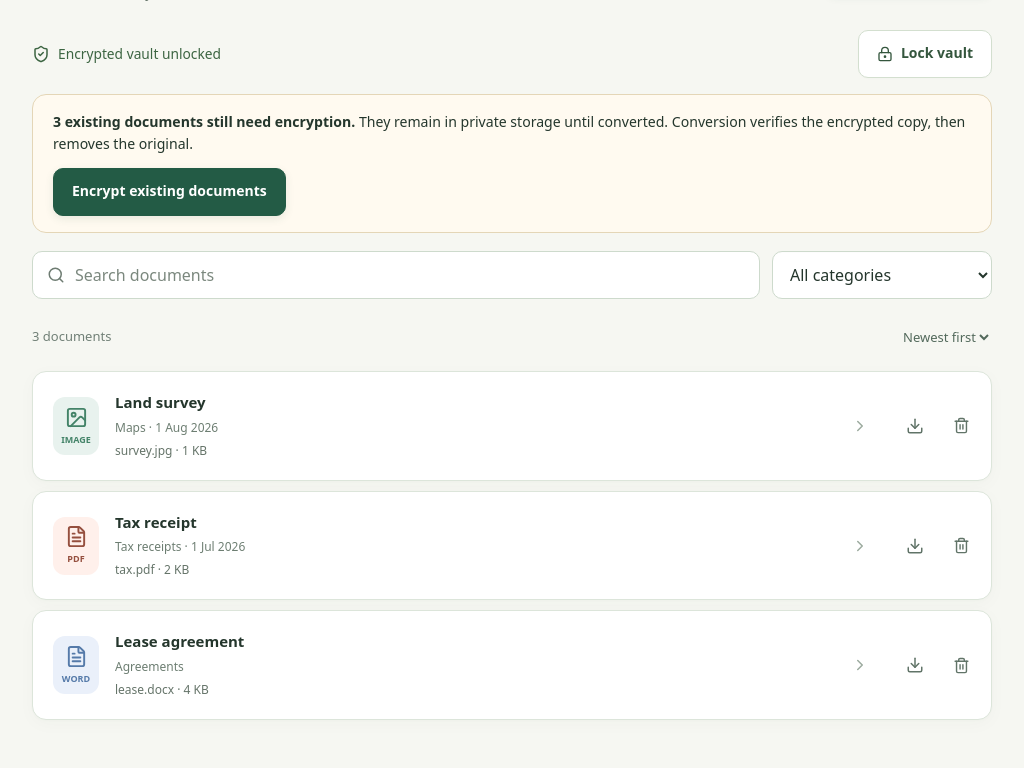
document workspace › gives Office files a details view and download action
(page scrolled)
Click the button with aria-label "Open Lease agreement": (76, 665) 41,619 -> 881,711
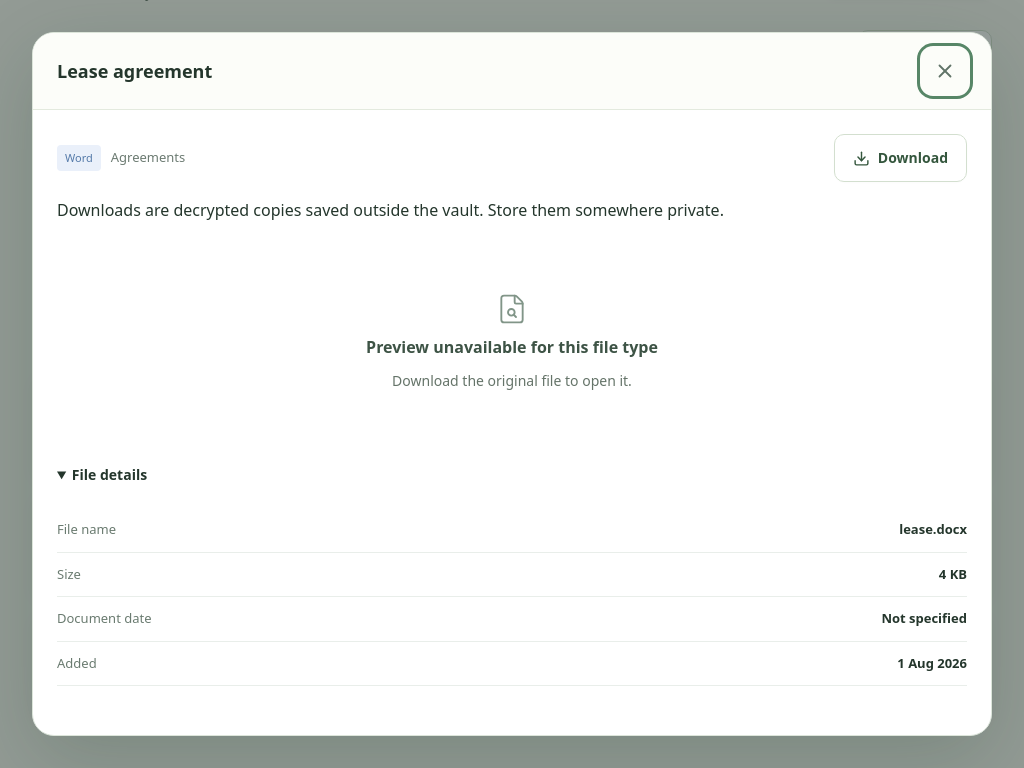
Check: the heading "Preview unavailable for this file type" is shown, box 366,336 -> 658,360
Check: the button "Download" is shown, box 834,134 -> 967,182
